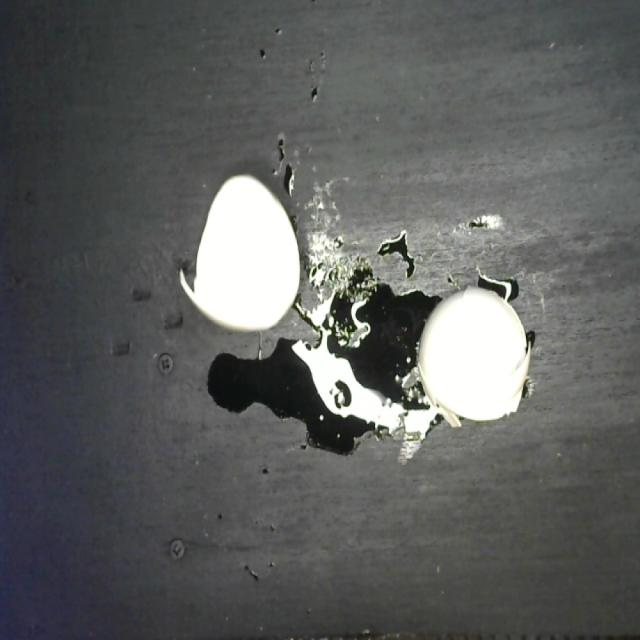biodegradable: (170, 169, 532, 440)
